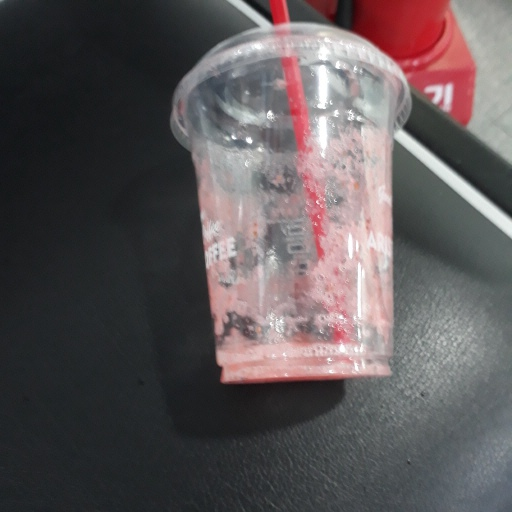Plastic_2: (169, 1, 408, 384)
